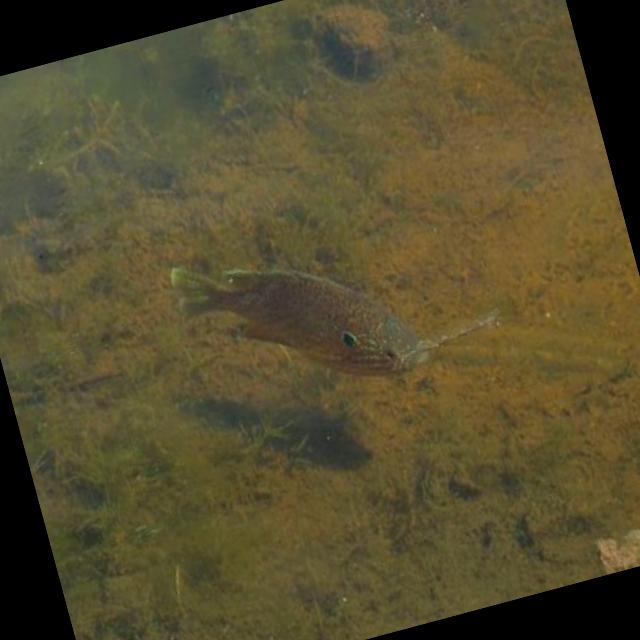Gunes Levregi: (164, 207, 426, 430)
